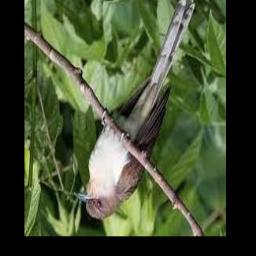Cuckoo: (75, 0, 195, 220)
